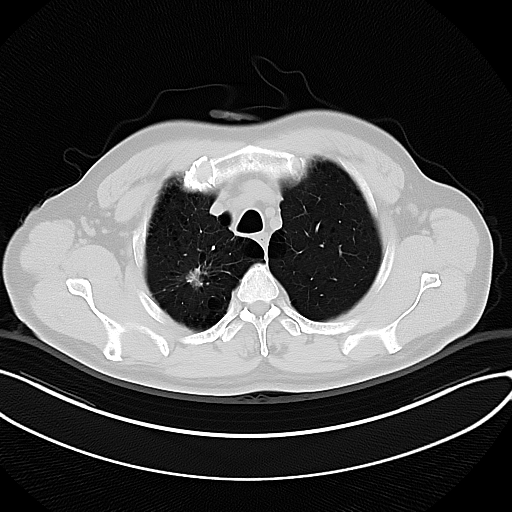nodule: (184, 265, 205, 290)
